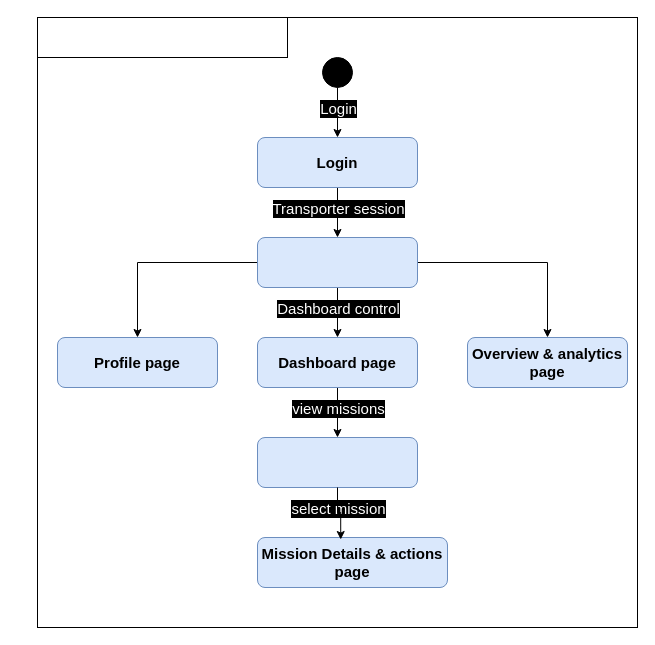
The diagram is 655 pixels wide and 645 high, and some of its shapes have lost their labels. Here are the shapes that lost their labels. From the top down, the box of each, then its label:
(36, 16, 288, 58): Navigation diagram : Transporter
(256, 236, 418, 288): Home page
(256, 436, 418, 488): Mission Page
